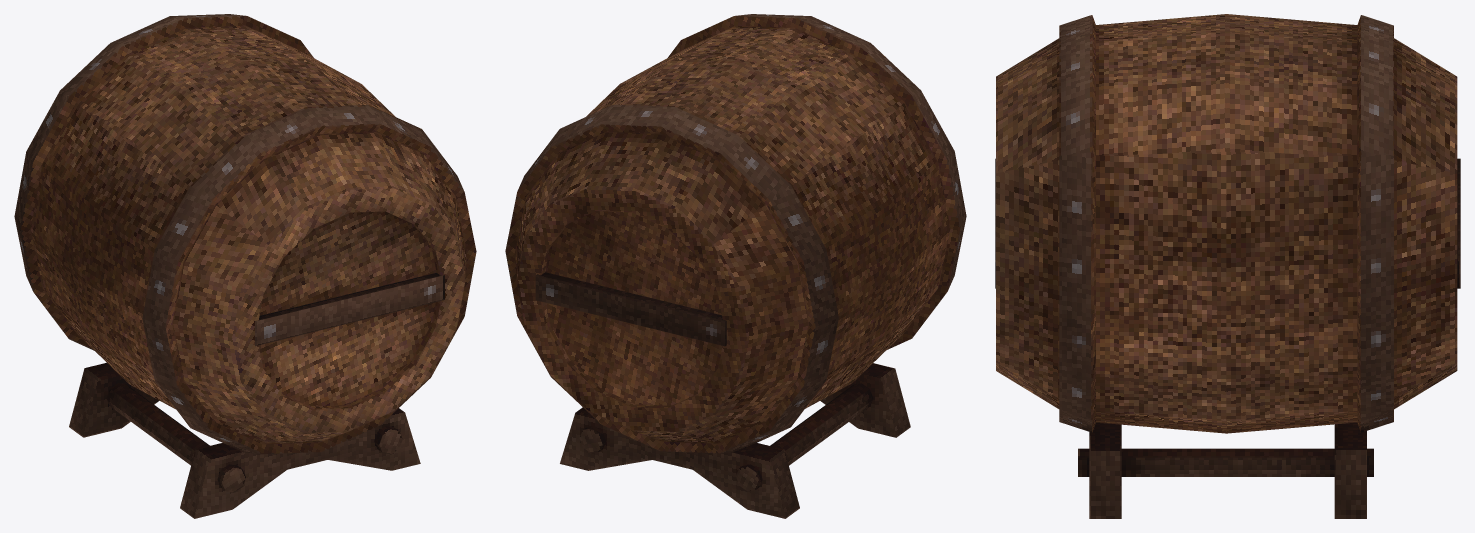
File: Barrel_2.gltf
3 renders of one model, left to right at view 1: azimuth 30°, elevation 25°; view 2: azimuth 150°, elevation 25°; view 3: azimuth 270°, elevation 25°, orthographic. The views are drawn at different scales.
Visible parts, largest first — view 1: Barrel_2; view 2: Barrel_2; view 3: Barrel_2.
Part boxes in pixels (bbox=[...]): Barrel_2: bbox=[14, 14, 476, 518]; Barrel_2: bbox=[505, 14, 966, 518]; Barrel_2: bbox=[995, 14, 1460, 518].
Bounding box in the file's own units: 2.99 × 3.34 × 3.31.
Materials: 1 (1 with a texture image).
